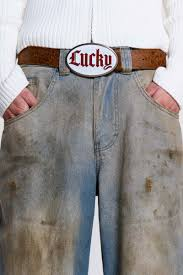earth: (5, 231, 42, 274), (1, 180, 18, 202), (167, 147, 179, 162), (145, 174, 154, 193)
